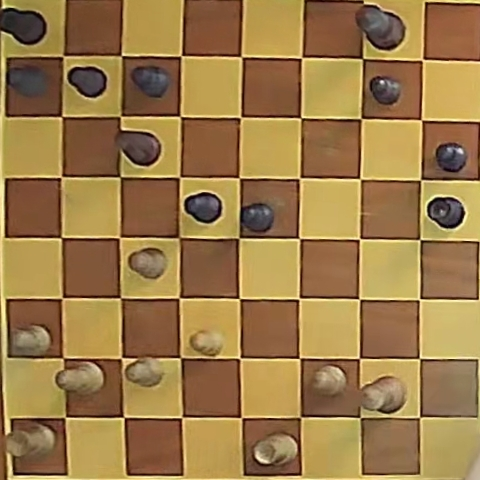black-king: (356, 4, 406, 50)
black-knight: (116, 131, 160, 166)
black-pawn: (7, 65, 48, 98), (68, 66, 107, 98), (131, 66, 170, 98), (184, 192, 222, 223), (241, 203, 274, 232), (370, 76, 402, 105), (435, 143, 466, 172)
black-rook: (0, 7, 46, 46), (426, 197, 464, 229)
white-bishop: (57, 362, 104, 395)
white-king: (362, 376, 406, 413)
white-pawn: (11, 324, 52, 356), (125, 357, 164, 387), (129, 248, 167, 278), (312, 365, 347, 396), (190, 329, 224, 356)
white-rook: (6, 422, 57, 459), (252, 432, 297, 466)
